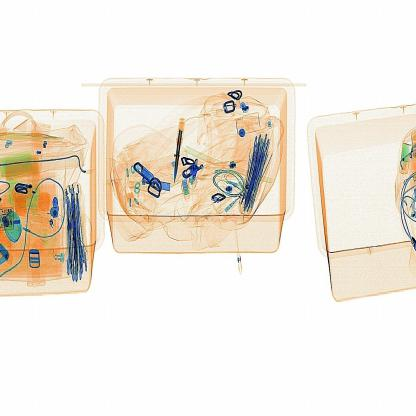gun: (166, 109, 195, 192)
